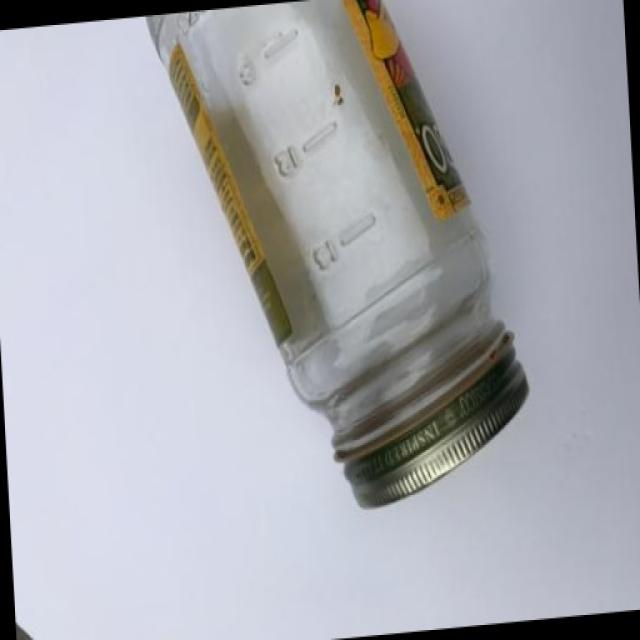vidrio: (132, 7, 592, 527)
